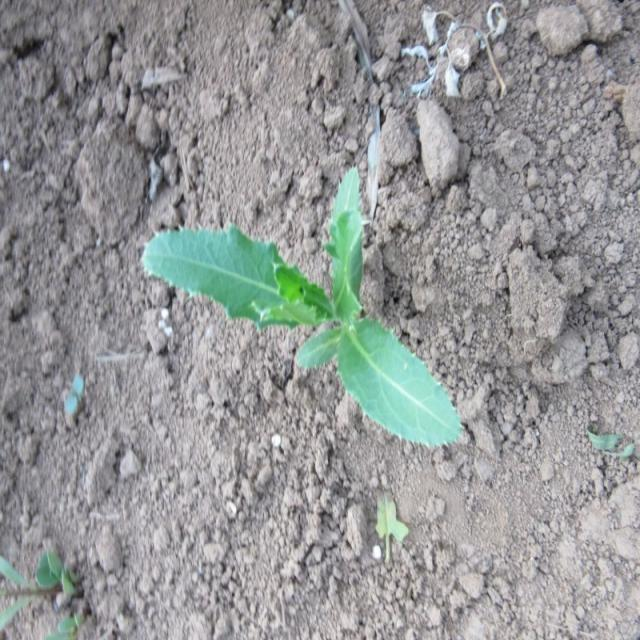cs: (140, 163, 465, 450)
